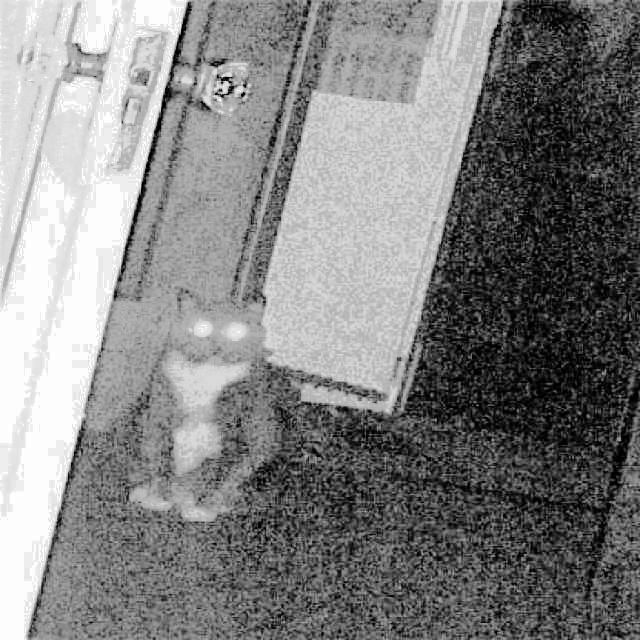Cat: (122, 284, 302, 529)
